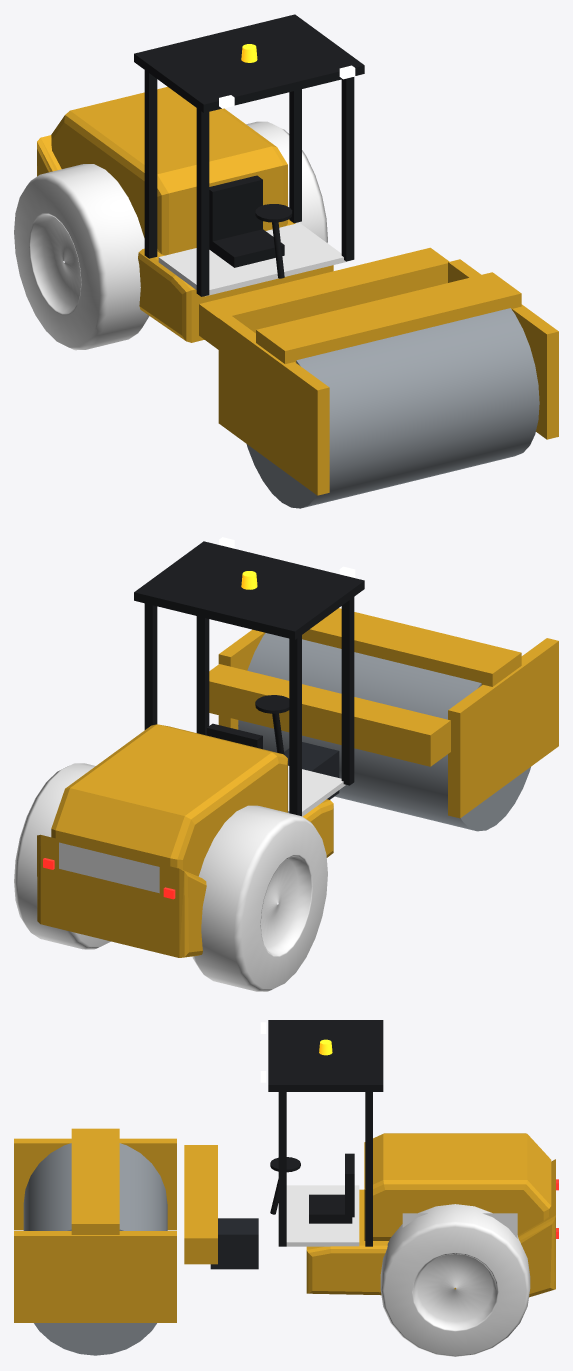
Rendered from equipment--compactor.glb.
3 renders of one model, top to bottom at view 1: azimuth 30°, elevation 25°; view 2: azimuth 150°, elevation 25°; view 3: azimuth 270°, elevation 25°, orthographic. The views are drawn at different scales.
Visible parts, largest first — view 1: frontFrame, drum, compactor:shell, axleRear, rops, seat, controls; view 2: compactor:shell, frontFrame, axleRear, rops, drum, controls, seat; view 3: frontFrame, compactor:shell, axleRear, rops, drum, seat, controls.
Part boxes in pixels (bbox=[...]): frontFrame: bbox=[199, 247, 558, 495]; drum: bbox=[246, 308, 539, 508]; compactor:shell: bbox=[37, 86, 345, 342]; axleRear: bbox=[14, 121, 327, 350]; rops: bbox=[134, 14, 364, 296]; seat: bbox=[209, 175, 284, 267]; controls: bbox=[255, 204, 292, 278]; compactor:shell: bbox=[37, 724, 345, 957]; frontFrame: bbox=[209, 608, 558, 818]; axleRear: bbox=[14, 763, 327, 991]; rops: bbox=[134, 541, 364, 816]; drum: bbox=[238, 633, 530, 831]; controls: bbox=[255, 695, 289, 754]; seat: bbox=[207, 723, 262, 749]; frontFrame: bbox=[14, 1128, 217, 1322]; compactor:shell: bbox=[210, 1133, 555, 1297]; axleRear: bbox=[380, 1204, 530, 1356]; rops: bbox=[268, 1020, 383, 1246]; drum: bbox=[23, 1143, 167, 1355]; seat: bbox=[309, 1153, 354, 1223]; controls: bbox=[270, 1157, 300, 1214].
Size of the model in its own units: 2.4 by 3.12 by 5.68.
